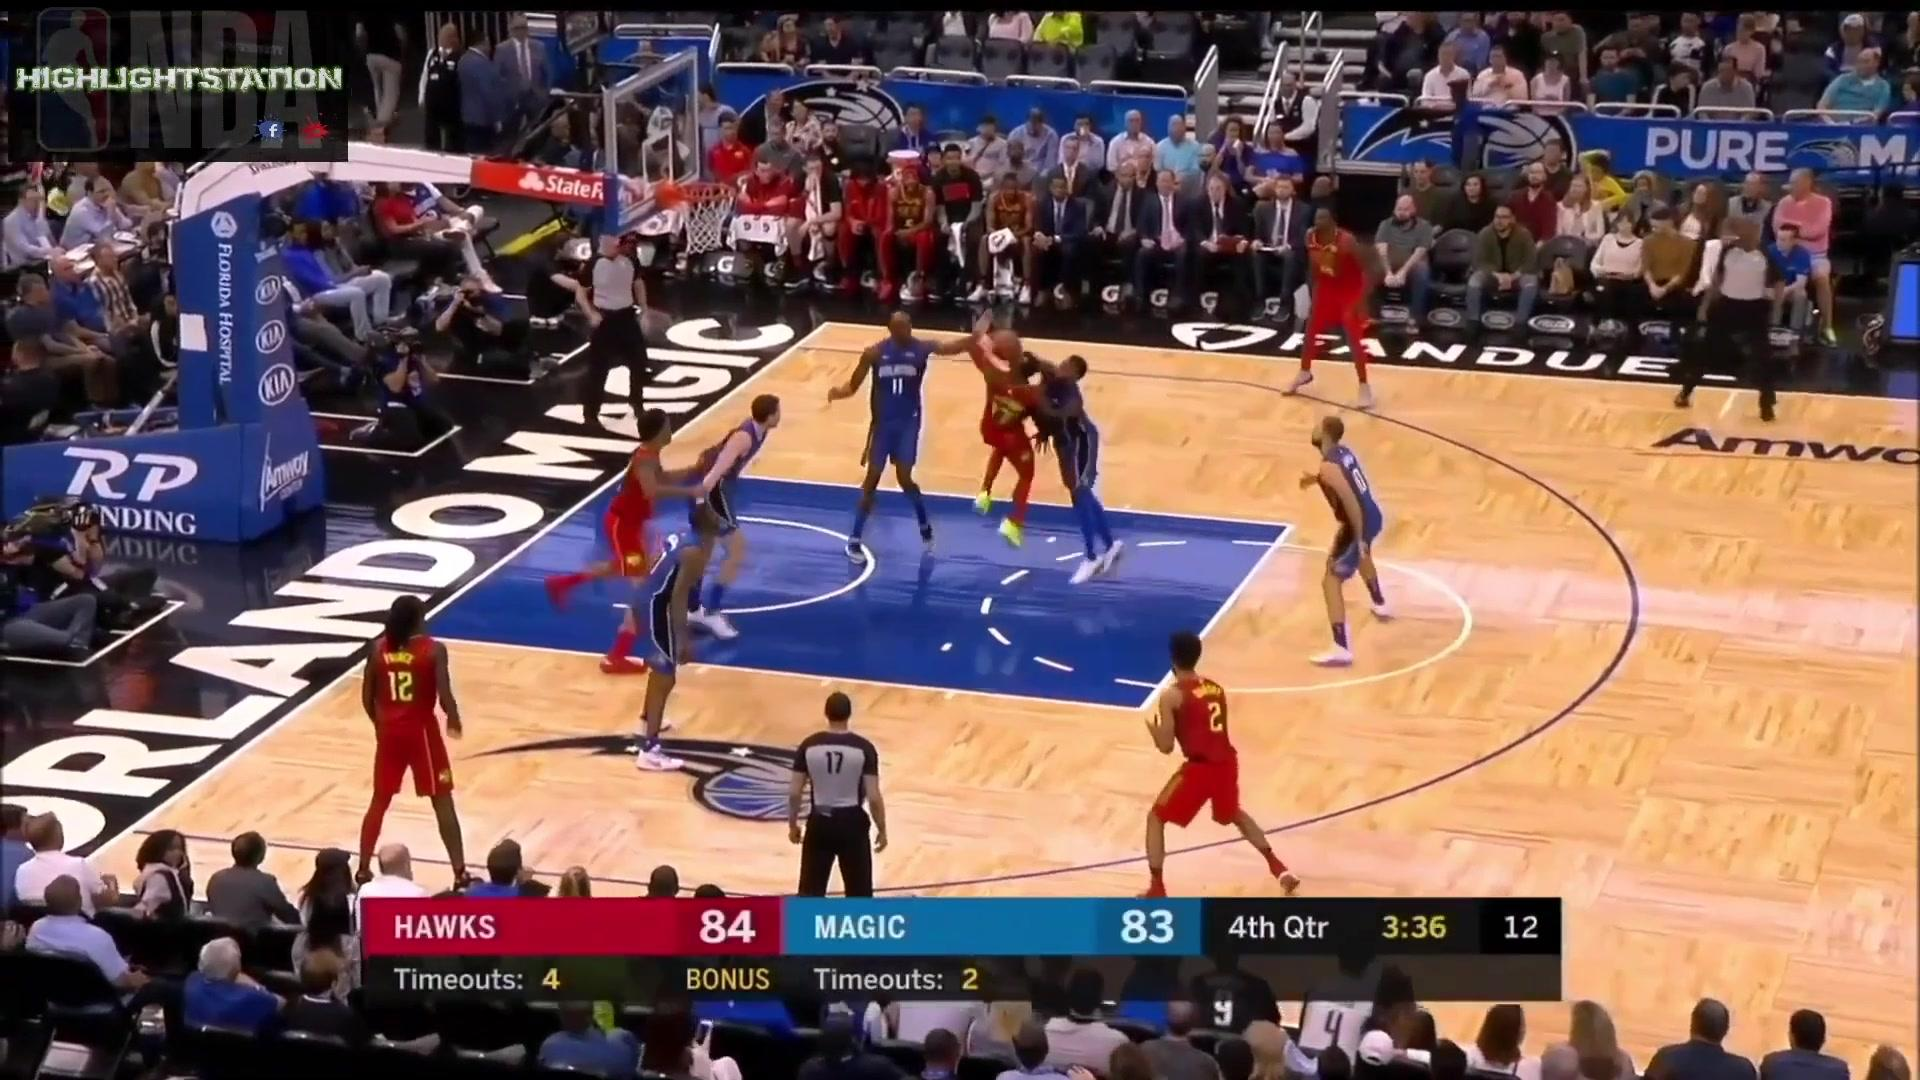foul: (972, 318, 1122, 571)
